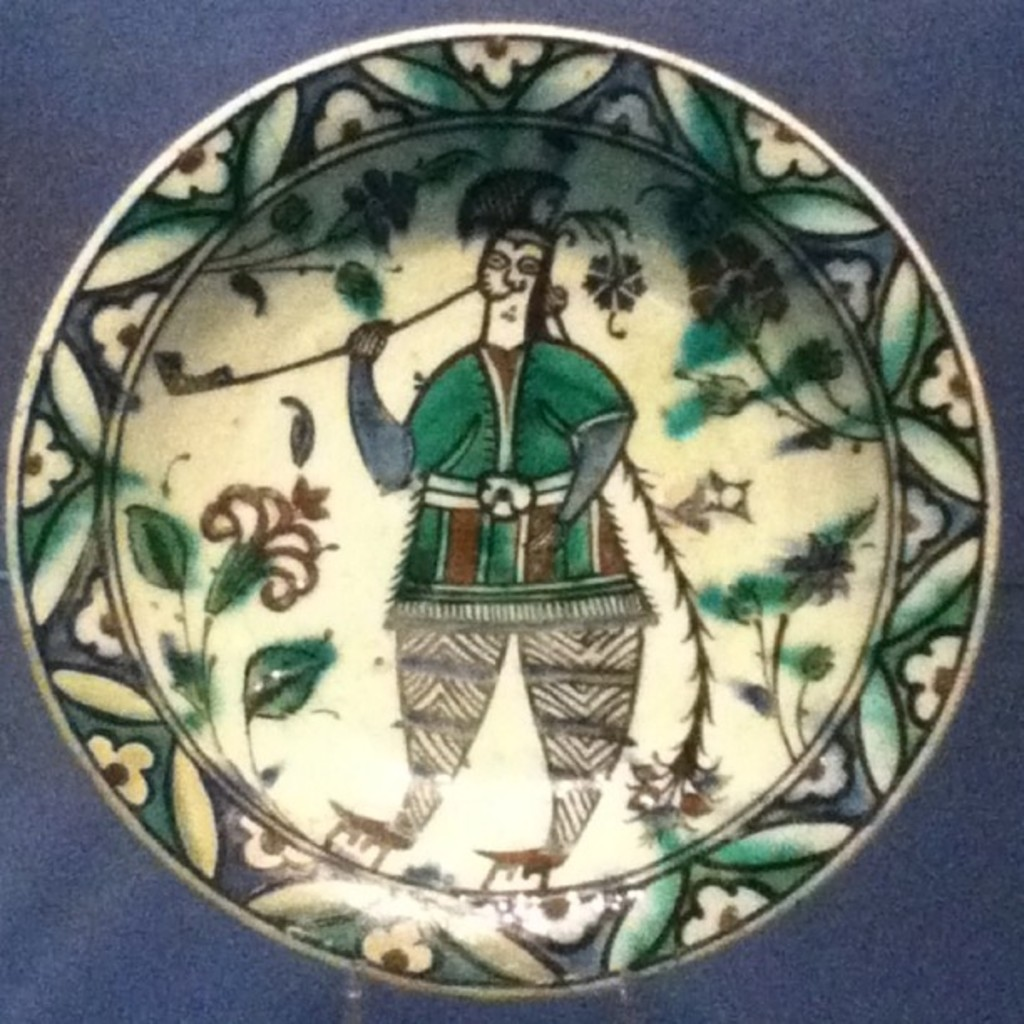plate: (16, 0, 987, 935)
